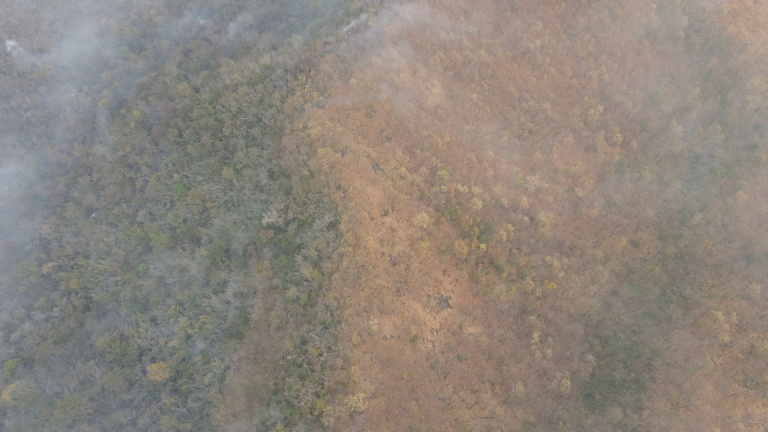smoke: (1, 2, 206, 191), (306, 1, 479, 102), (1, 190, 54, 432)
